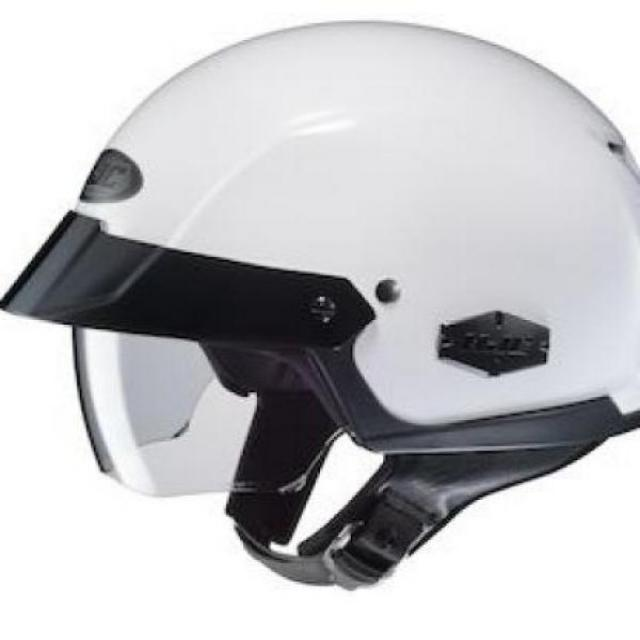Helmet: (24, 23, 640, 600)
